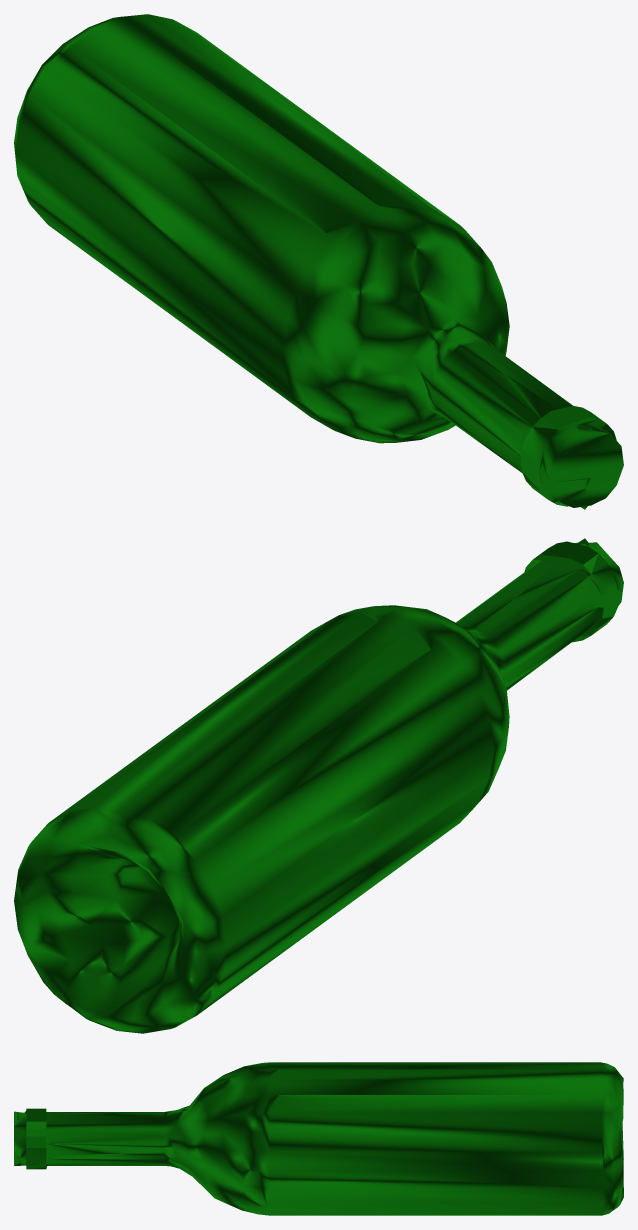
Rendered from model_align.obj.
3 views of the same model, one above another, from view 1: azimuth 30°, elevation 25°; view 2: azimuth 150°, elevation 25°; view 3: azimuth 270°, elevation 25° (orthographic). The views are drawn at different scales.
Bounding box in the file's own units: 0.0629 × 0.0629 × 0.2493.
